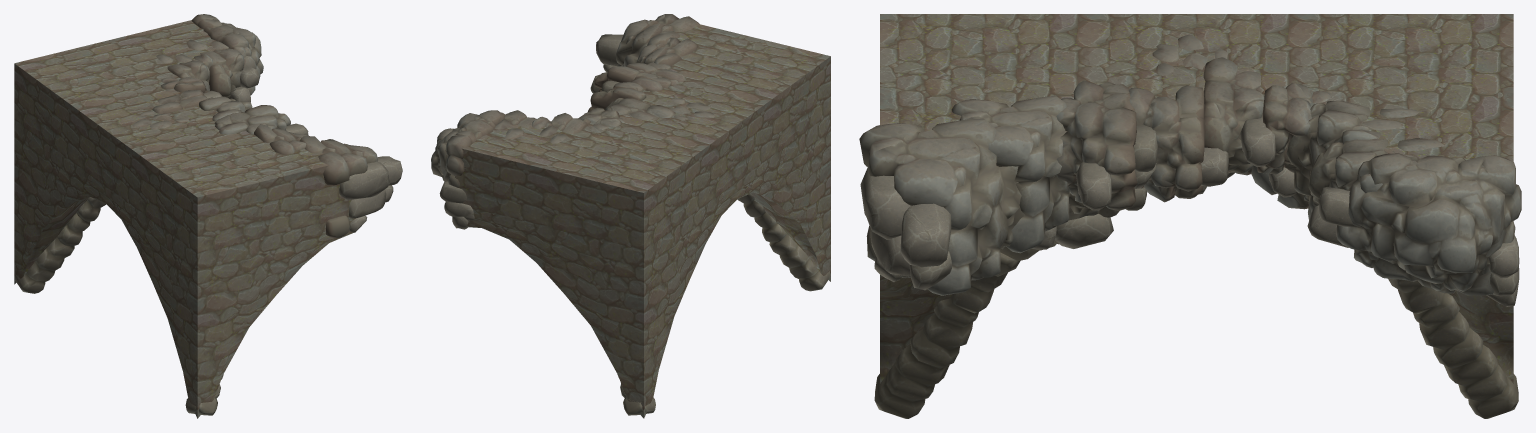
Rendered from SM_FW01_Ruins_Int_Ceiling_A_6x6_Brkn_01.fbx.
The picture shows the model from 3 angles, left to right: view 1: azimuth 30°, elevation 25°; view 2: azimuth 150°, elevation 25°; view 3: azimuth 270°, elevation 25°; orthographic projection. The views are drawn at different scales.
Visible parts, largest first — view 1: SM_FW01_Ruins_Int_Ceiling_A_6x6_Brkn_01, SM_FW01_Ruins_Int_Ceiling_A_6x6_Brkn_01_LOD0; view 2: SM_FW01_Ruins_Int_Ceiling_A_6x6_Brkn_01, SM_FW01_Ruins_Int_Ceiling_A_6x6_Brkn_01_LOD0; view 3: SM_FW01_Ruins_Int_Ceiling_A_6x6_Brkn_01_LOD0, SM_FW01_Ruins_Int_Ceiling_A_6x6_Brkn_01.
Boxes of the visible parts, x1=… form: SM_FW01_Ruins_Int_Ceiling_A_6x6_Brkn_01: x1=14, y1=20, x2=355, y2=418; SM_FW01_Ruins_Int_Ceiling_A_6x6_Brkn_01_LOD0: x1=15, y1=14, x2=402, y2=415; SM_FW01_Ruins_Int_Ceiling_A_6x6_Brkn_01: x1=455, y1=19, x2=830, y2=418; SM_FW01_Ruins_Int_Ceiling_A_6x6_Brkn_01_LOD0: x1=431, y1=14, x2=829, y2=415; SM_FW01_Ruins_Int_Ceiling_A_6x6_Brkn_01_LOD0: x1=859, y1=34, x2=1521, y2=418; SM_FW01_Ruins_Int_Ceiling_A_6x6_Brkn_01: x1=880, y1=14, x2=1513, y2=383.
Size of what is drawn, in the model's own units: 4.24 by 4.24 by 6.27.
